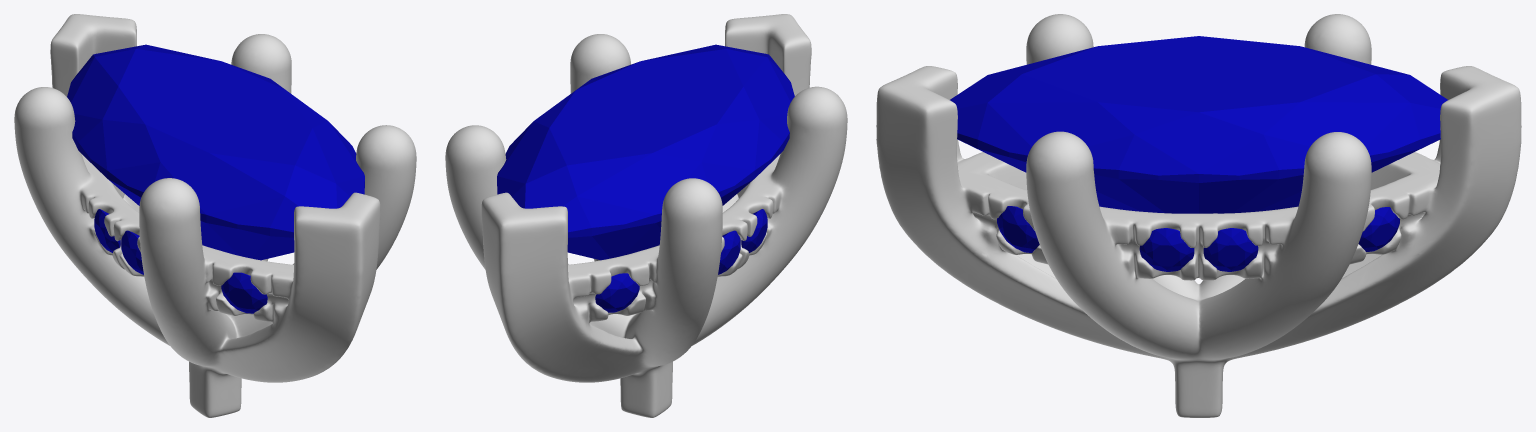
File: Marquise.glb
3 views of the same model, side by side, from view 1: azimuth 30°, elevation 25°; view 2: azimuth 150°, elevation 25°; view 3: azimuth 270°, elevation 25° (orthographic). The views are drawn at different scales.
Visible parts, largest first — view 1: /GSMOD388300-HIDDEN HALO_MARQUISE_IJ.3dm, Diamond_Marquise, Diamond_Round (×3); view 2: /GSMOD388300-HIDDEN HALO_MARQUISE_IJ.3dm, Diamond_Marquise, Diamond_Round (×3); view 3: /GSMOD388300-HIDDEN HALO_MARQUISE_IJ.3dm, Diamond_Marquise, Diamond_Round (×4).
Boxes of the visible parts, x1,y1,x2,y2 form: /GSMOD388300-HIDDEN HALO_MARQUISE_IJ.3dm: (14,14,416,417); Diamond_Marquise: (67,44,364,260); Diamond_Round (×3): (94,209,267,313); /GSMOD388300-HIDDEN HALO_MARQUISE_IJ.3dm: (445,14,847,417); Diamond_Marquise: (497,44,794,260); Diamond_Round (×3): (595,209,767,312); /GSMOD388300-HIDDEN HALO_MARQUISE_IJ.3dm: (876,14,1521,417); Diamond_Marquise: (950,36,1447,213); Diamond_Round (×4): (997,206,1399,271).
Size of the model in its own units: 7.62 by 8.17 by 14.2.
